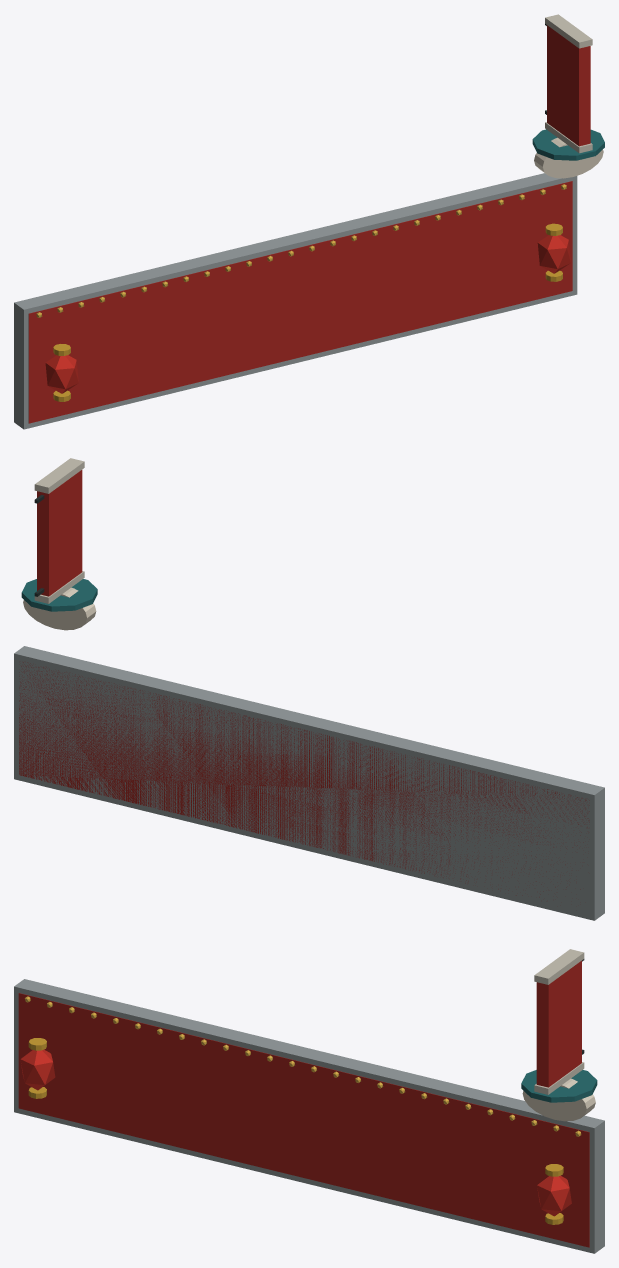
Rendered from bang_hu_tieu_mi_nam_cuong_60.glb.
3 renders of one model, top to bottom at view 1: azimuth 30°, elevation 25°; view 2: azimuth 150°, elevation 25°; view 3: azimuth 330°, elevation 25°, orthographic. The views are drawn at different scales.
Parts seen in each view (by area): view 1: bang_hu_tieu_mi_nam_cuong_60; view 2: bang_hu_tieu_mi_nam_cuong_60; view 3: bang_hu_tieu_mi_nam_cuong_60.
Boxes of the visible parts, box(x1,y1,x2,y2) form: bang_hu_tieu_mi_nam_cuong_60: box(14, 14, 604, 429); bang_hu_tieu_mi_nam_cuong_60: box(14, 458, 604, 920); bang_hu_tieu_mi_nam_cuong_60: box(14, 949, 604, 1253).
Bounding box in the file's own units: 5.91 × 2.81 × 0.7238.
